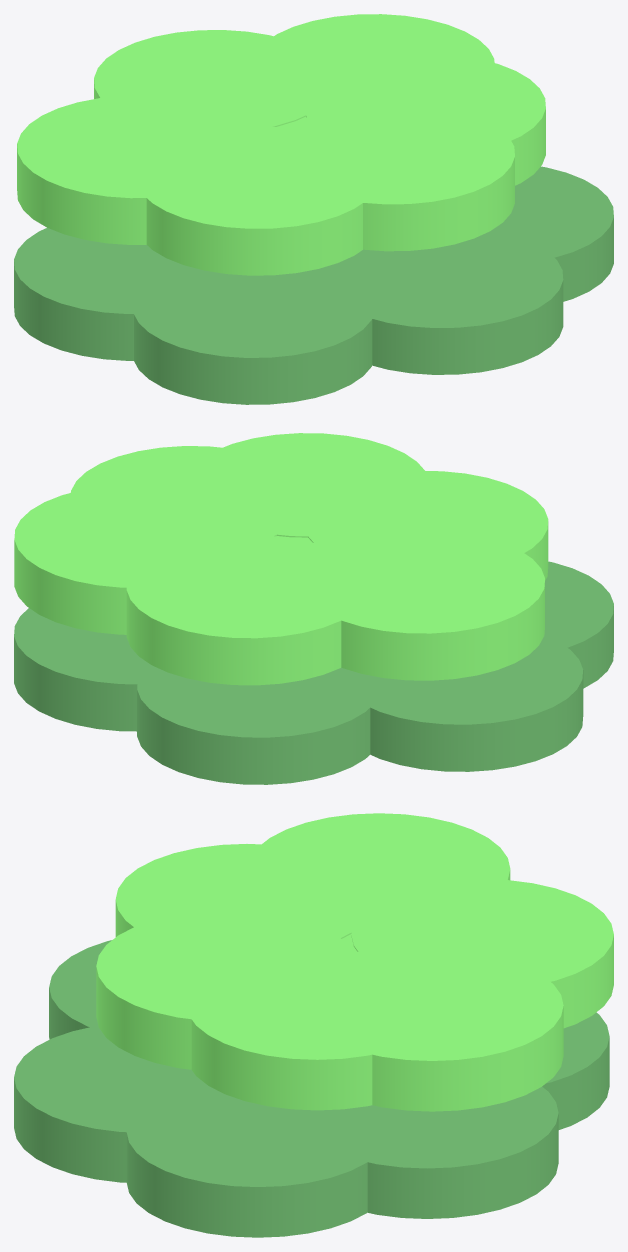
File: bush.glb
The picture shows the model from 3 angles, top to bottom: view 1: azimuth 30°, elevation 25°; view 2: azimuth 150°, elevation 25°; view 3: azimuth 270°, elevation 25°; orthographic projection. The views are drawn at different scales.
Parts seen in each view (by area): view 1: Cylinder (×6), Cylinder_2, Cylinder_5, Cylinder_1, Cylinder_6, Cylinder_3; view 2: Cylinder (×5), Cylinder_2, Cylinder_3, Cylinder_5, Cylinder_1, Cylinder_6; view 3: Cylinder (×7), Cylinder_3, Cylinder_6, Cylinder_1, Cylinder_2, Cylinder_5.
Boxes of the visible parts, x1,y1,x2,y2 form: Cylinder (×6): [14, 30, 613, 404]; Cylinder_2: [17, 95, 259, 244]; Cylinder_5: [138, 126, 378, 275]; Cylinder_1: [305, 53, 545, 185]; Cylinder_6: [272, 104, 514, 251]; Cylinder_3: [252, 14, 494, 116]; Cylinder (×5): [14, 535, 613, 784]; Cylinder_2: [300, 530, 544, 680]; Cylinder_3: [14, 484, 258, 634]; Cylinder_5: [304, 471, 548, 580]; Cylinder_1: [70, 446, 314, 548]; Cylinder_6: [185, 433, 429, 537]; Cylinder (×7): [14, 879, 613, 1237]; Cylinder_3: [301, 950, 563, 1111]; Cylinder_6: [96, 911, 358, 1069]; Cylinder_1: [187, 949, 448, 1110]; Cylinder_2: [247, 813, 510, 921]; Cylinder_5: [115, 844, 377, 953].
Size of the model in its own units: 5.02 by 1.32 by 4.57.
